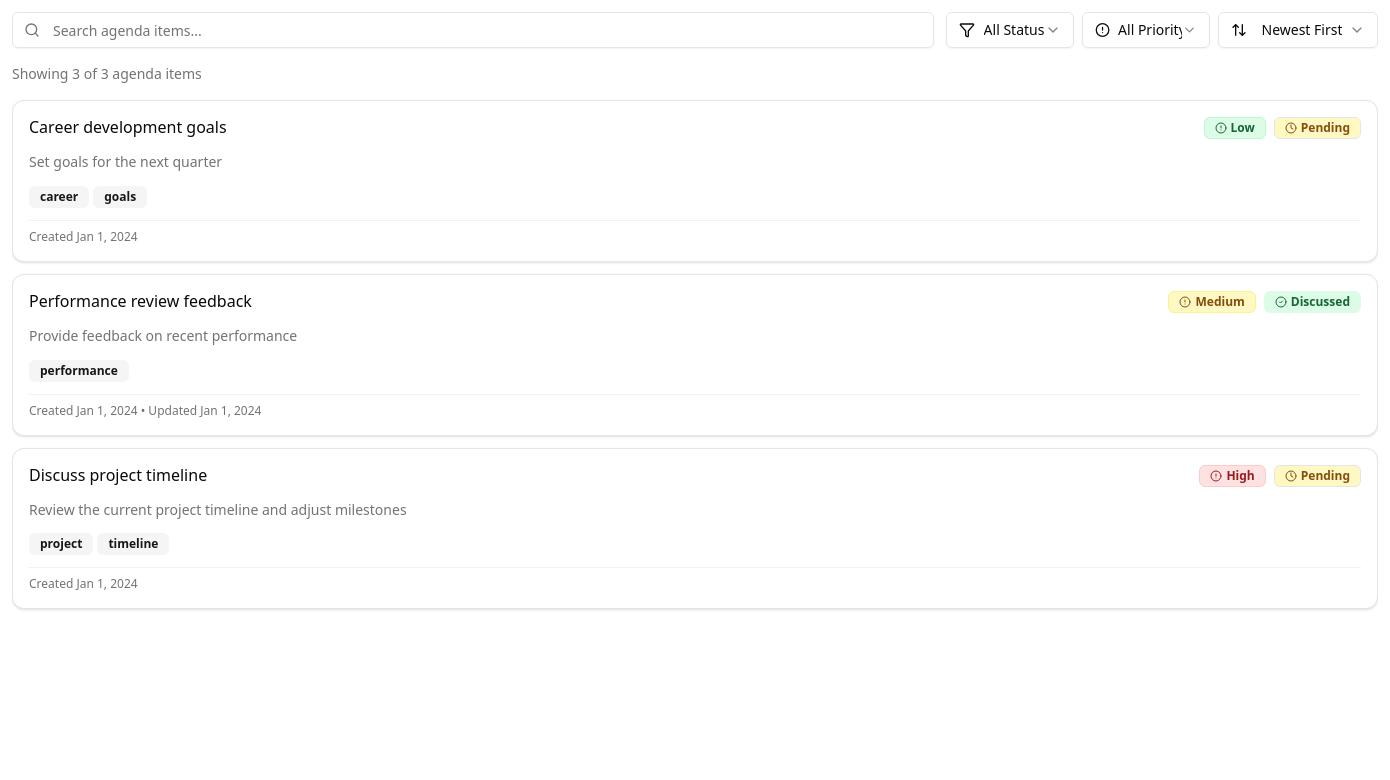
AgendaItemList › filters items by search term
Type "project" into the field with placeholder "Search agenda items..." at (473,30), box [12, 12, 934, 48]
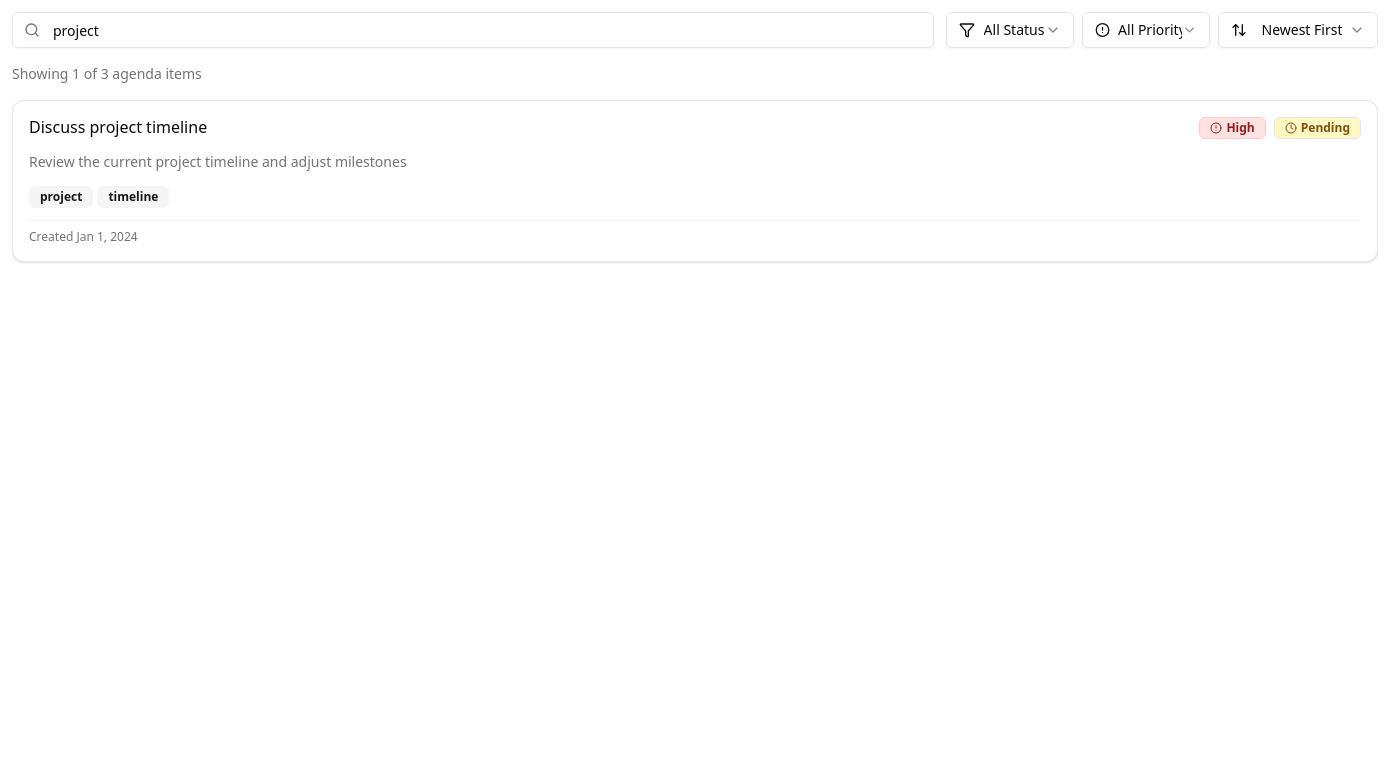
Expected: the heading "Discuss project timeline" is shown, [29, 116, 207, 138]
Now the heading "Performance review feedback" is gone
